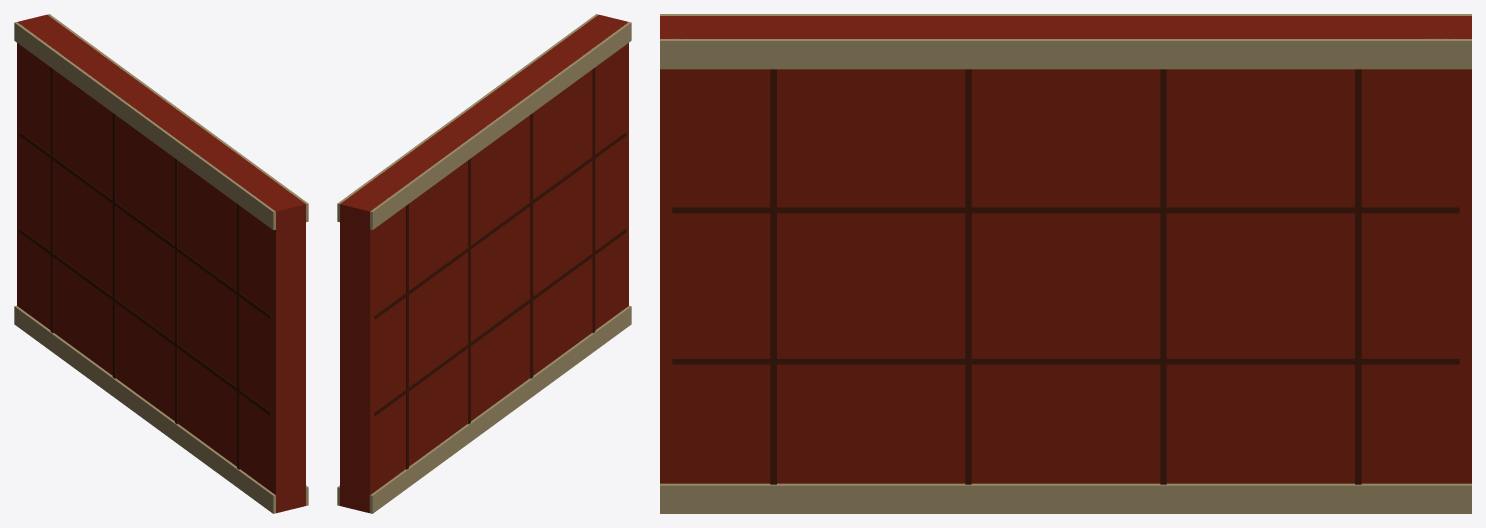
The model's file is panel_outer_wall_upper.fbx.
3 views of the same model, side by side, from view 1: azimuth 30°, elevation 25°; view 2: azimuth 150°, elevation 25°; view 3: azimuth 270°, elevation 25° (orthographic). The views are drawn at different scales.
Parts seen in each view (by area): view 1: Part_0; view 2: Part_0; view 3: Part_0.
Part boxes in pixels (<box>): Part_0: <box>14,14,308,513</box>; Part_0: <box>337,14,631,513</box>; Part_0: <box>660,14,1471,513</box>.
Bounding box in the file's own units: 0.55 × 4.5 × 7.
